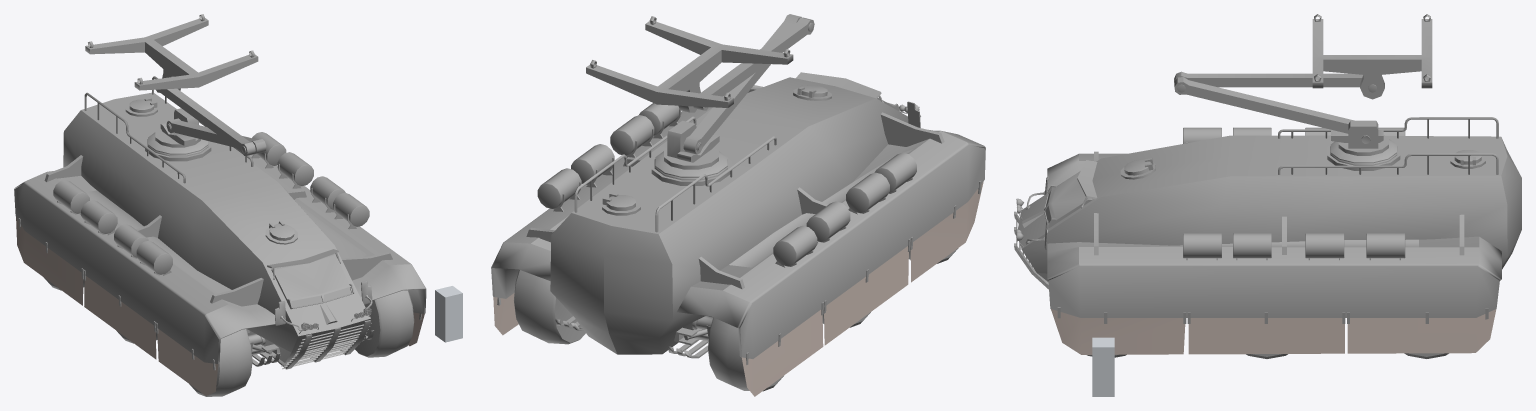
The model's file is vehicle_one.fbx.
The picture shows the model from 3 angles, left to right: view 1: azimuth 30°, elevation 25°; view 2: azimuth 150°, elevation 25°; view 3: azimuth 270°, elevation 25°; orthographic projection. The views are drawn at different scales.
Visible parts, largest first — view 1: Cube, Cube.008, Circle.008, Circle.002, Circle.007, Cube.009, Plane, Cube.012, Cube.007, Circle.005, Cube.013, Cube.011 (+3 smaller); view 2: Cube, Cube.008, Circle.008, Circle.007, Circle.002, Cube.009, Circle.005, Cube.013, Cube.012, Cube.011, Cube.006, Circle; view 3: Cube.008, Cube, Circle.008, Circle.007, Cube.013, Cube.012, Circle.005, Cube.007, Cube.011, Cube.009.
Part boxes in pixels (box(x1,y1,x2,y2)): Cube: box(63, 76, 370, 362); Cube.008: box(14, 147, 426, 395); Circle.008: box(53, 132, 369, 275); Circle.002: box(43, 277, 414, 396); Circle.007: box(85, 14, 258, 90); Cube.009: box(44, 155, 392, 306); Plane: box(273, 320, 371, 369); Cube.012: box(156, 88, 255, 155); Cube.007: box(435, 286, 462, 342); Circle.005: box(145, 128, 211, 161); Cube.013: box(166, 118, 266, 153); Cube.011: box(160, 108, 198, 145); Cube: box(550, 72, 908, 354); Cube.008: box(491, 85, 985, 396); Circle.008: box(537, 103, 916, 267); Circle.007: box(586, 16, 793, 112); Circle.002: box(514, 248, 958, 391); Cube.009: box(526, 87, 944, 289); Circle.005: box(651, 147, 731, 185); Cube.013: box(683, 14, 801, 154); Cube.012: box(693, 17, 814, 110); Cube.011: box(667, 120, 719, 162); Cube.006: box(555, 316, 710, 358); Circle: box(674, 316, 712, 345); Cube.008: box(1047, 153, 1501, 354); Cube: box(1017, 117, 1521, 281); Circle.008: box(1183, 127, 1405, 260); Circle.007: box(1312, 14, 1432, 99); Cube.013: box(1174, 77, 1354, 133); Cube.012: box(1174, 71, 1363, 87); Circle.005: box(1327, 135, 1400, 170); Cube.007: box(1092, 337, 1114, 396); Cube.011: box(1331, 120, 1383, 148); Cube.009: box(1094, 151, 1464, 255).
Size of the model in its own units: 554 by 474 by 825.
